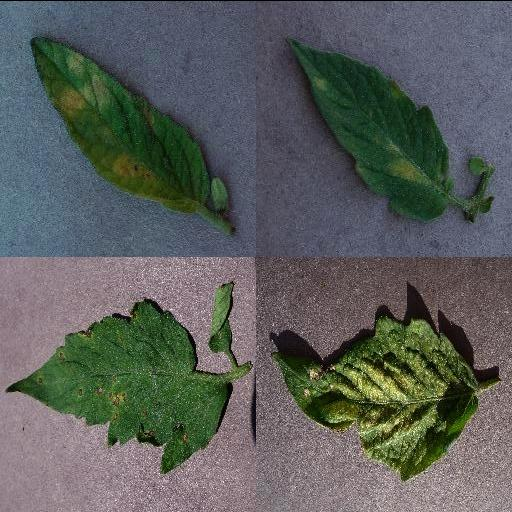Leaf Mold: (28, 36, 210, 212), (284, 40, 454, 222)
Septoria: (1, 301, 227, 475)
Spider Mites: (273, 313, 477, 477)
